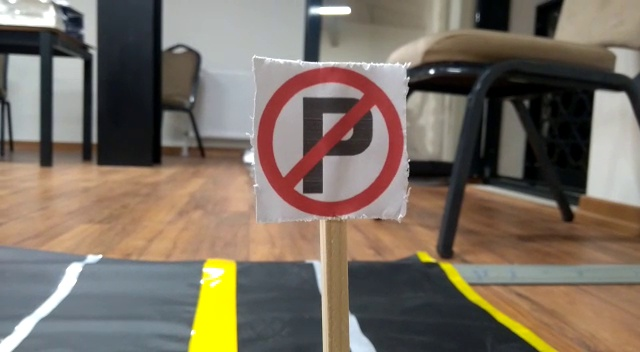park_yapilmaz: (255, 60, 408, 215)
